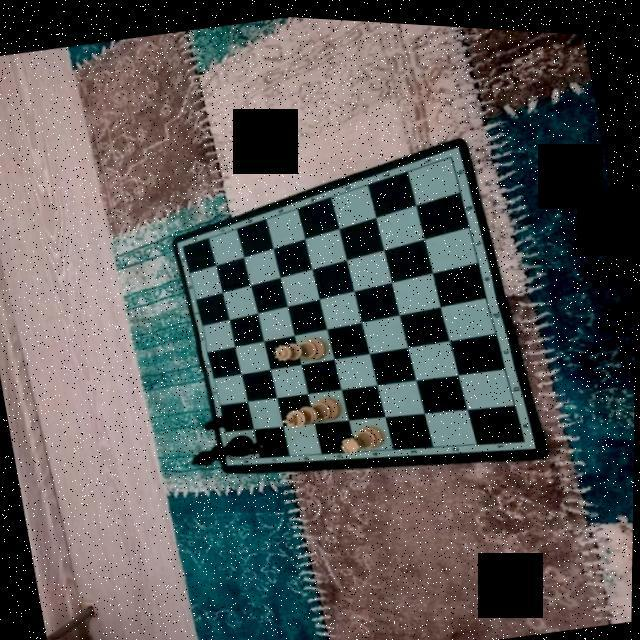chess-table-corners: (220, 445, 244, 469), (176, 237, 192, 252), (516, 428, 532, 442), (444, 144, 458, 160)
